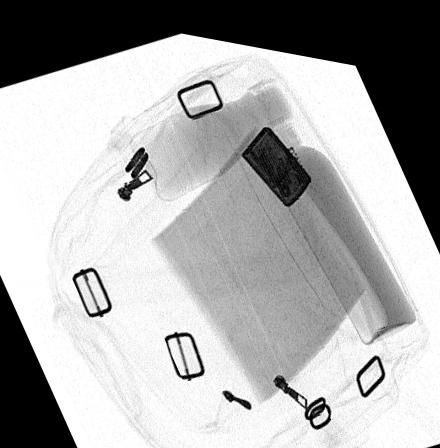Lighter: (241, 115, 312, 195)
